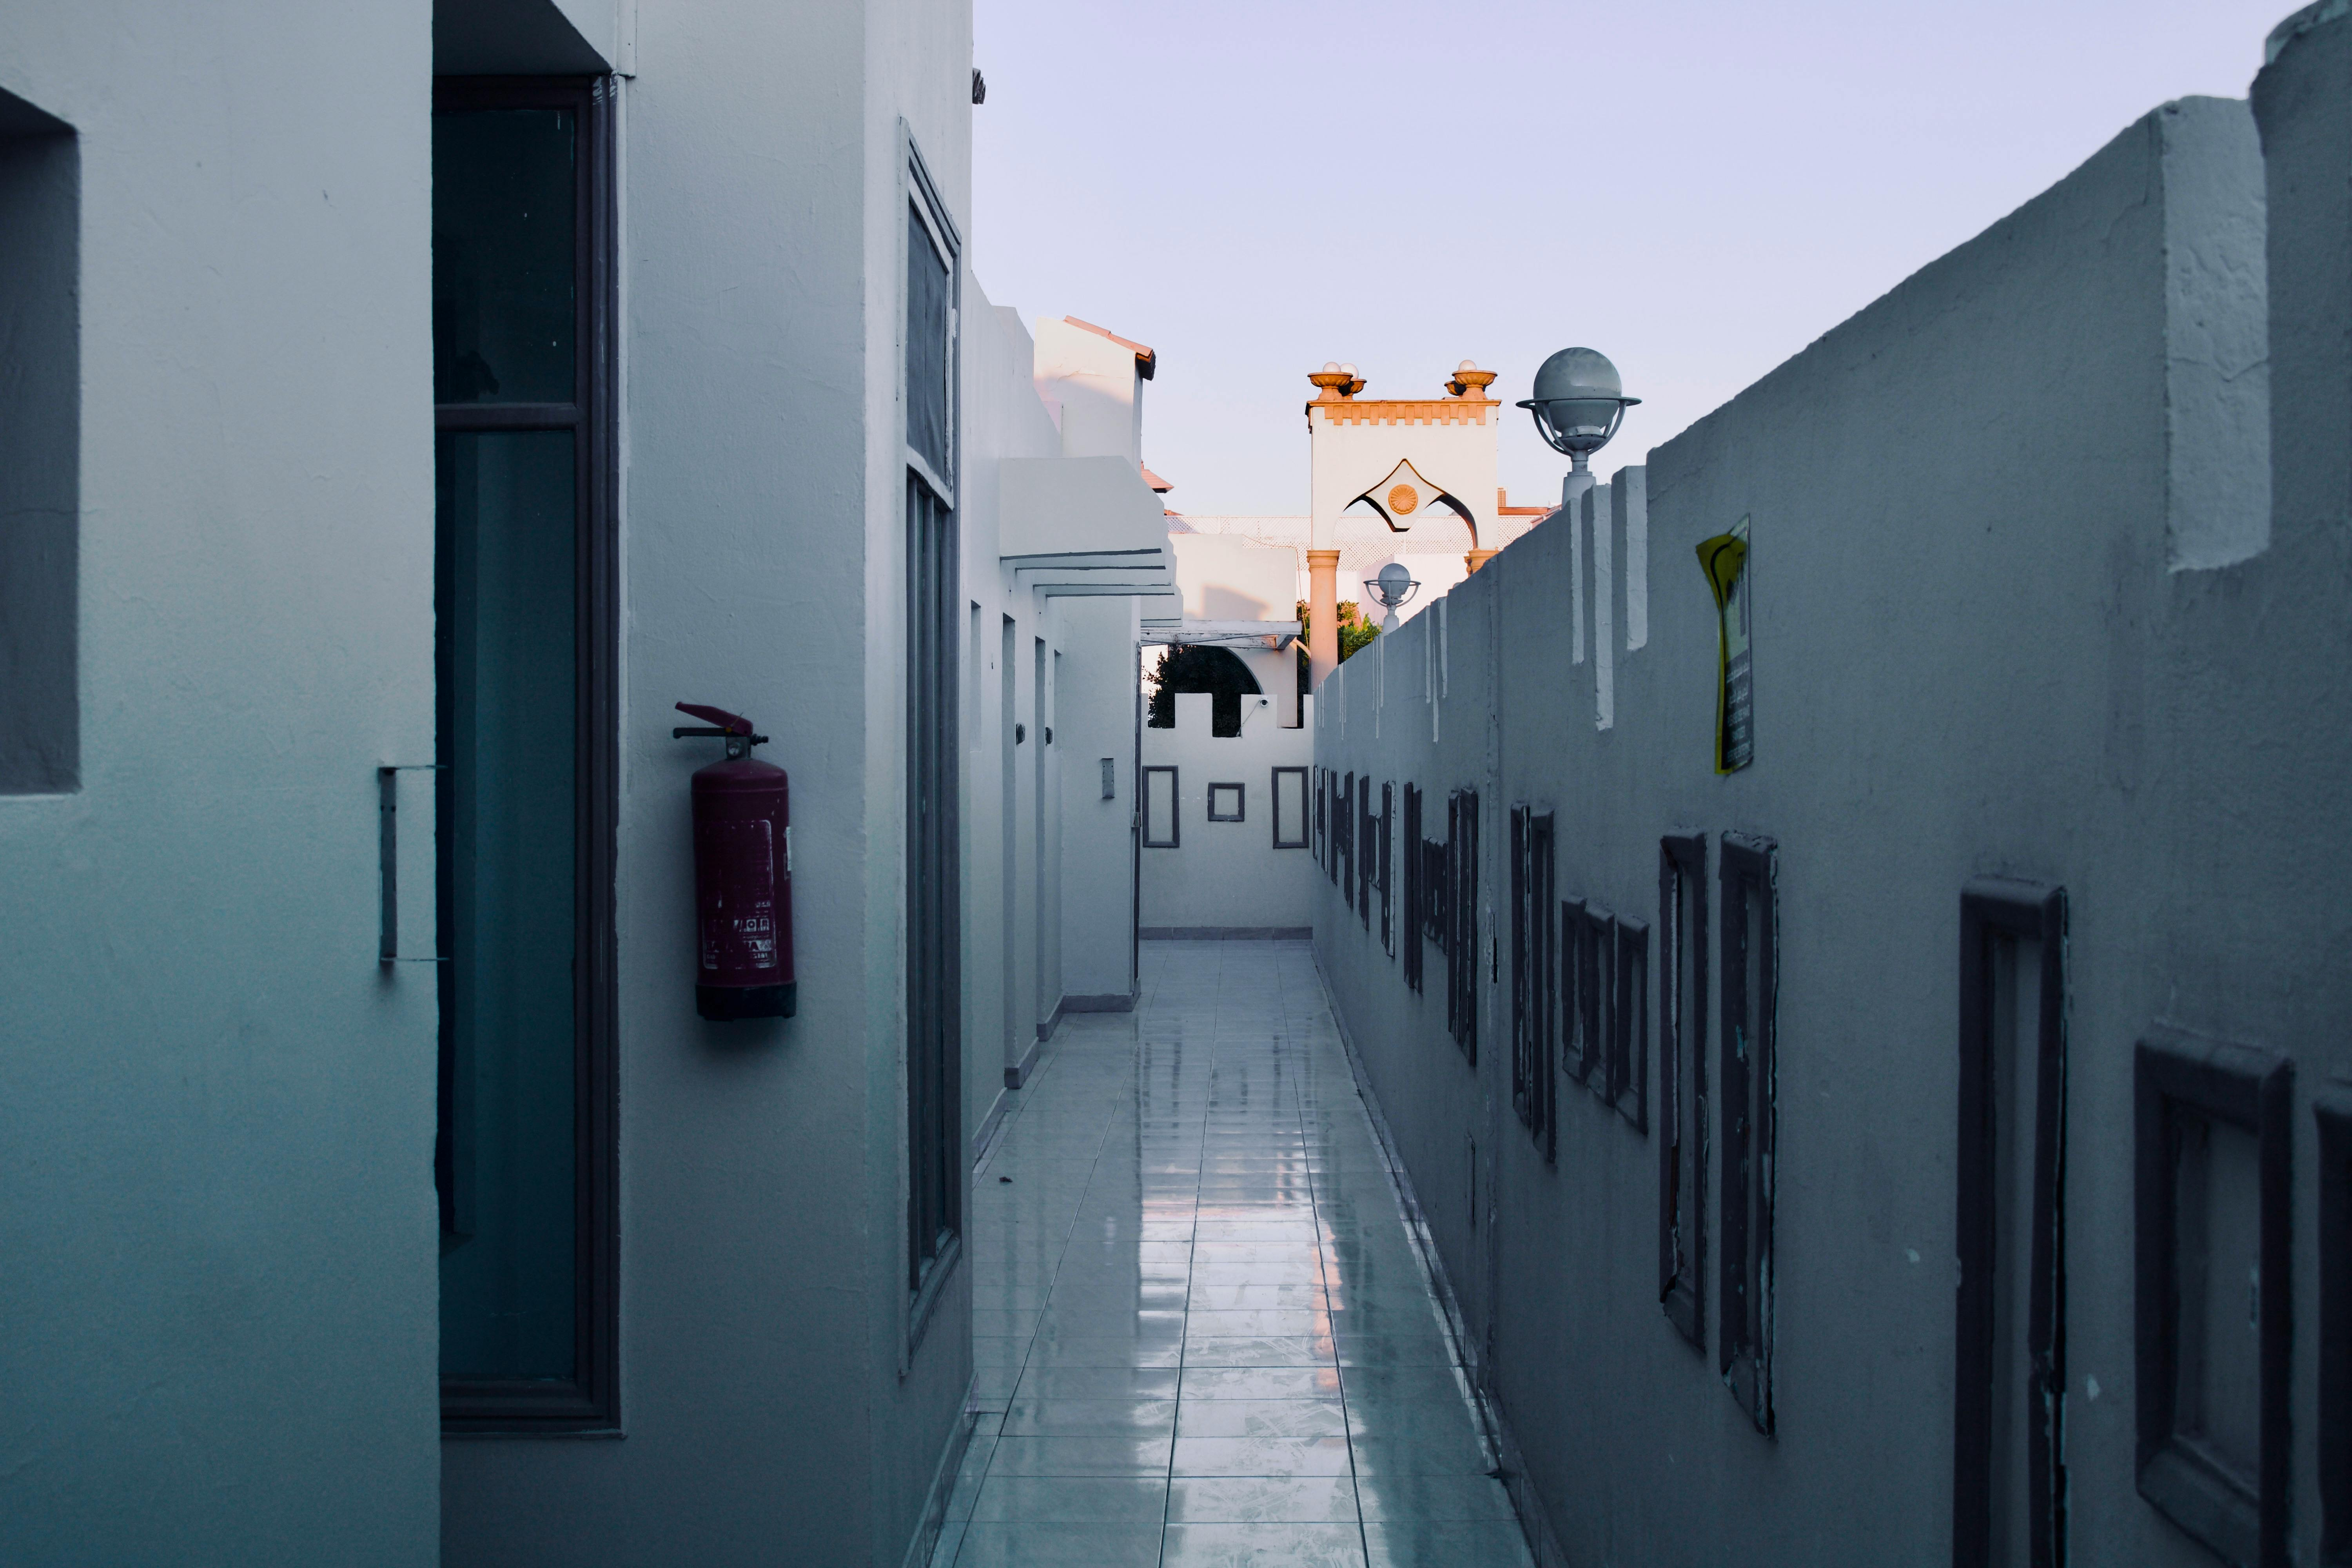extintor: (668, 693, 810, 1027)
